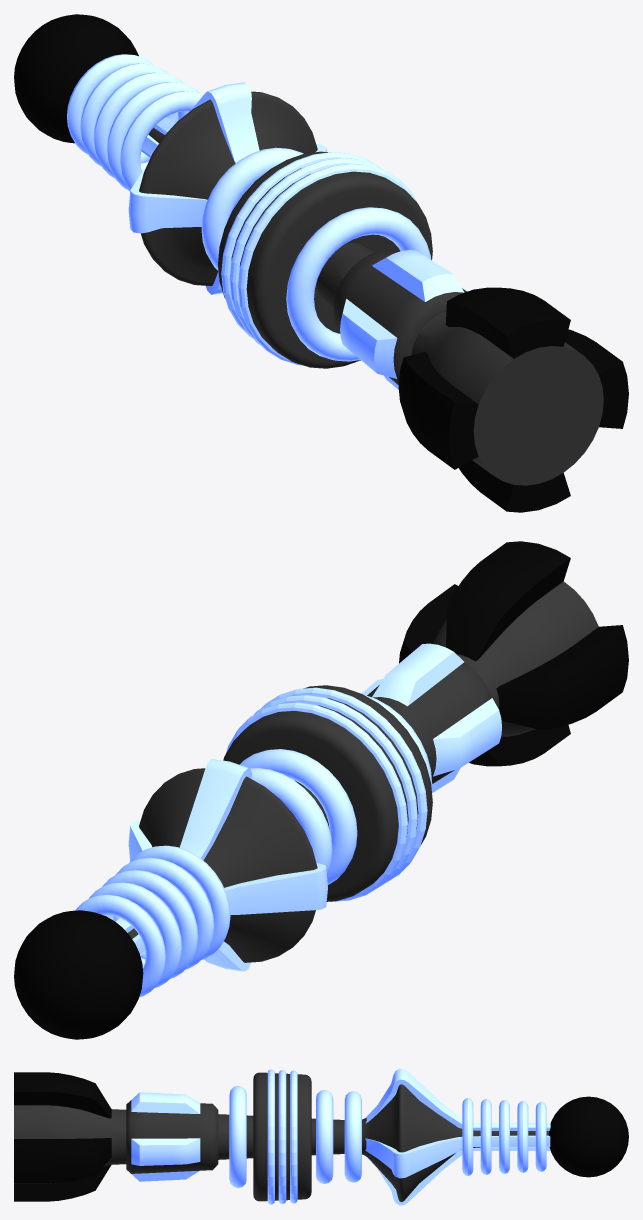
File: BeaconTower4.fbx
3 renders of one model, top to bottom at view 1: azimuth 30°, elevation 25°; view 2: azimuth 150°, elevation 25°; view 3: azimuth 270°, elevation 25°, orthographic. The views are drawn at different scales.
Visible parts, largest first — view 1: Cylinder, Cylinder.004, Cylinder.003, Sphere, Cylinder_Curve.001, Cylinder_Curve.003, Cylinder.005, Cylinder_Curve.004, Cylinder.006, Cylinder.007, Cylinder_Curve.006, Cylinder_Curve.008 (+3 smaller); view 2: Cylinder, Sphere, Cylinder.004, Cylinder.003, Cylinder_Curve.001, Cylinder.005, Cylinder_Curve.005, Cylinder.006, Cylinder.007, Cylinder_Curve.004, Cylinder_Curve.010, Cylinder_Curve.006 (+3 smaller); view 3: Cylinder, Sphere, Cylinder.004, Cylinder.003, Cylinder.005, Cylinder_Curve.001, Cylinder.006, Cylinder.007, Cylinder_Curve.003, Cylinder_Curve.005, Cylinder_Curve.004, Cylinder_Curve.006 (+4 smaller).
Boxes of the visible parts, <box> form: Cylinder: <box>139,91,603,485</box>; Cylinder.004: <box>445,287,570,512</box>; Cylinder.003: <box>398,329,628,469</box>; Sphere: <box>14,14,138,143</box>; Cylinder_Curve.001: <box>221,152,420,365</box>; Cylinder_Curve.003: <box>286,207,431,361</box>; Cylinder.005: <box>340,250,467,389</box>; Cylinder_Curve.004: <box>201,147,303,270</box>; Cylinder.006: <box>141,82,259,294</box>; Cylinder.007: <box>128,135,326,233</box>; Cylinder_Curve.006: <box>120,91,203,191</box>; Cylinder_Curve.008: <box>93,72,188,178</box>; Cylinder: <box>128,581,598,962</box>; Sphere: <box>14,910,143,1039</box>; Cylinder.004: <box>446,541,570,766</box>; Cylinder.003: <box>399,584,628,730</box>; Cylinder_Curve.001: <box>226,687,427,901</box>; Cylinder.005: <box>361,643,501,792</box>; Cylinder_Curve.005: <box>239,749,357,884</box>; Cylinder.006: <box>115,759,251,971</box>; Cylinder.007: <box>128,820,327,953</box>; Cylinder_Curve.004: <box>250,768,332,874</box>; Cylinder_Curve.010: <box>75,894,165,997</box>; Cylinder_Curve.006: <box>129,845,230,959</box>; Cylinder: <box>14,1072,548,1201</box>; Sphere: <box>549,1096,628,1177</box>; Cylinder.004: <box>14,1072,111,1201</box>; Cylinder.003: <box>14,1138,111,1183</box>; Cylinder.005: <box>131,1092,200,1181</box>; Cylinder_Curve.001: <box>267,1069,297,1204</box>; Cylinder.006: <box>365,1068,550,1205</box>; Cylinder.007: <box>365,1135,550,1178</box>; Cylinder_Curve.003: <box>229,1086,246,1187</box>; Cylinder_Curve.005: <box>316,1090,333,1183</box>; Cylinder_Curve.004: <box>344,1091,361,1182</box>; Cylinder_Curve.006: <box>462,1098,473,1175</box>.
Bounding box in the file's own units: 302 × 302 × 1311.
